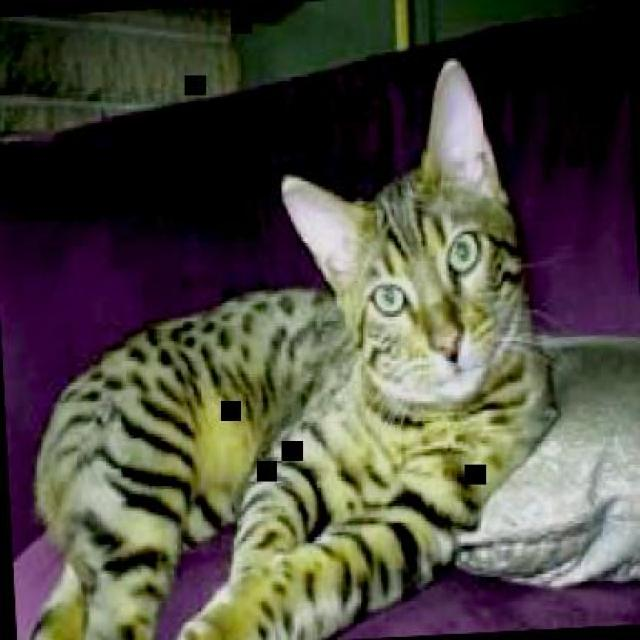cat: (0, 56, 566, 638)
